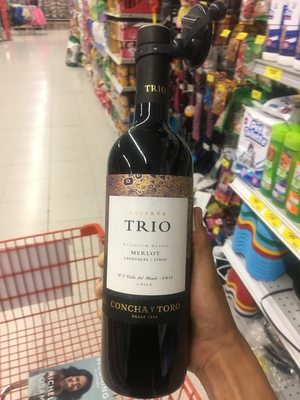trio merlot: (95, 35, 200, 400)
